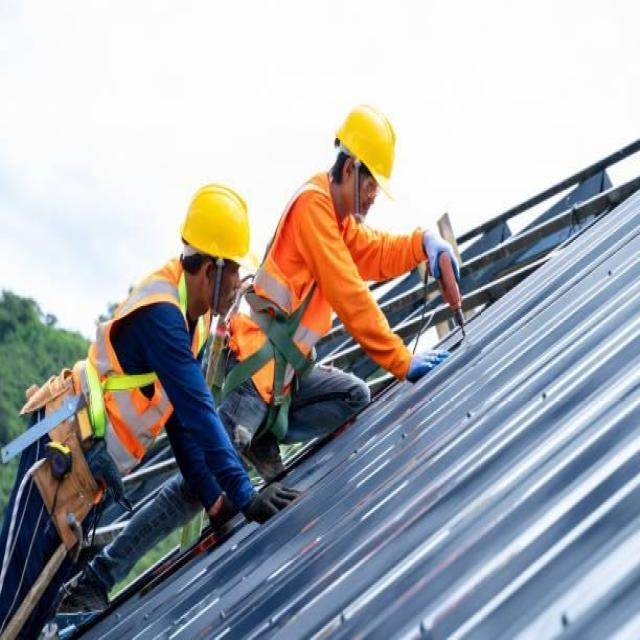Arnes_seguridad: (219, 168, 362, 440), (28, 293, 182, 520)
